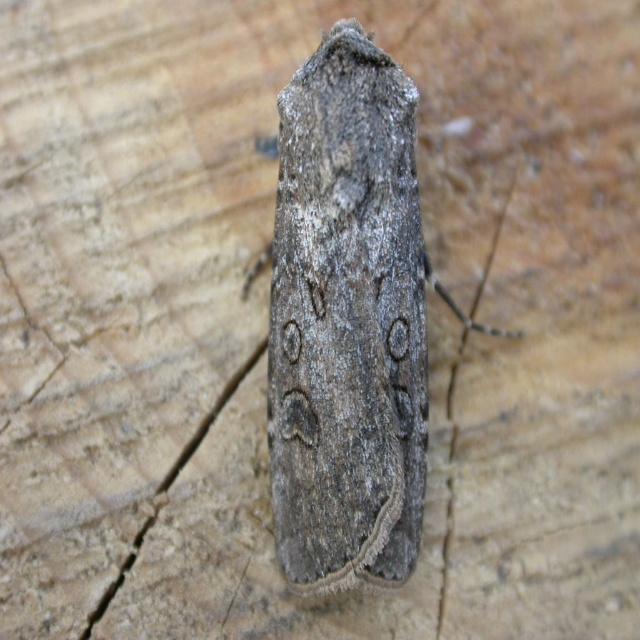Moths and butterflies: (242, 13, 526, 601)
